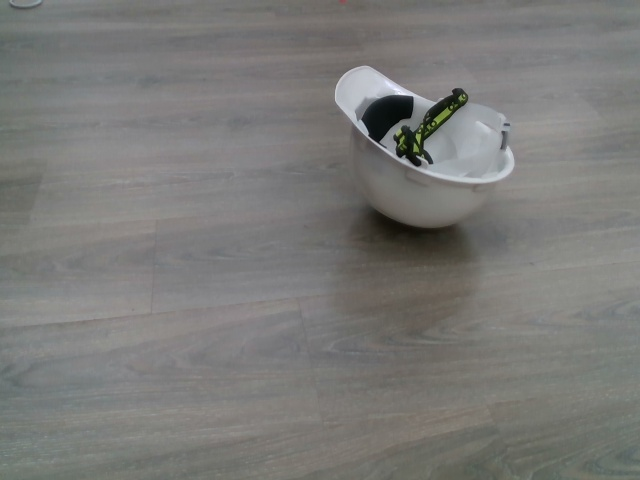helmet: (331, 55, 522, 235)
